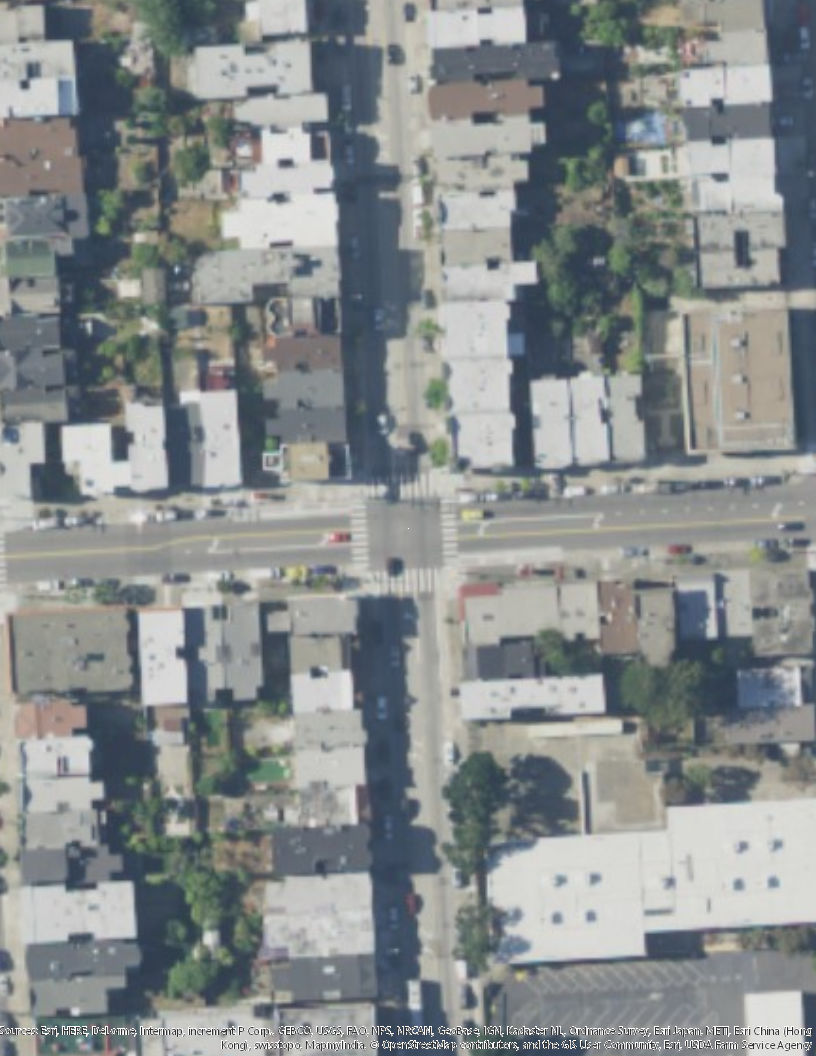zebracross: (364, 476, 437, 503), (378, 564, 437, 596), (347, 504, 371, 572), (437, 501, 461, 562)
